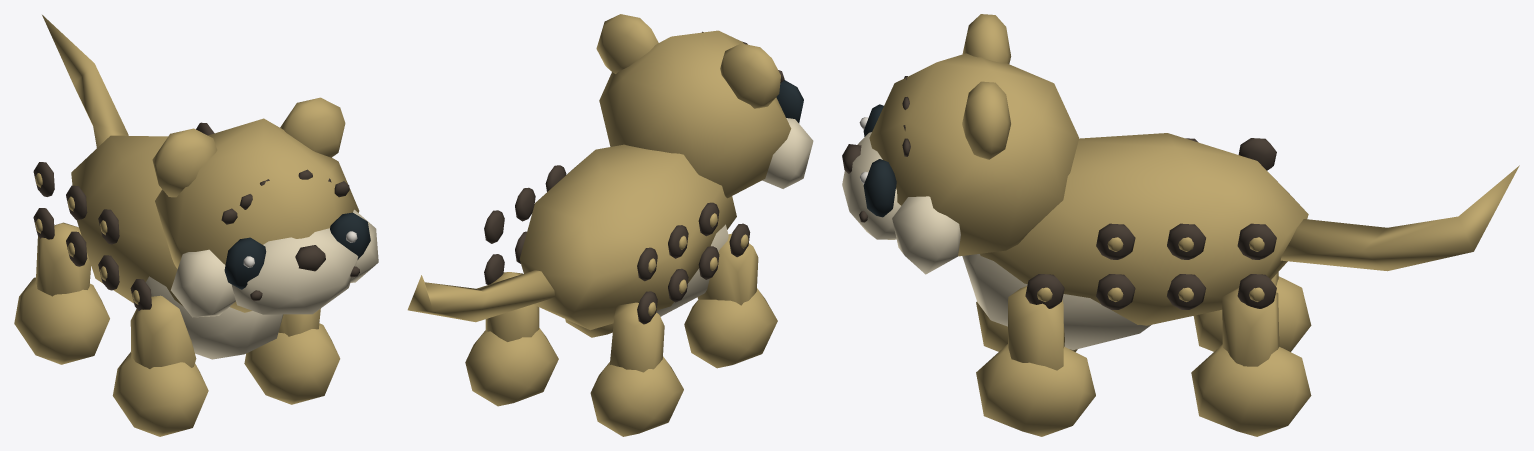
The model's file is org_amurleopard.glb.
3 views of the same model, side by side, from view 1: azimuth 30°, elevation 25°; view 2: azimuth 150°, elevation 25°; view 3: azimuth 270°, elevation 25° (orthographic). The views are drawn at different scales.
Parts seen in each view (by area): view 1: Head, Body, Leg_FR, Leg_BR, Leg_FL, Tail, Eye_R, Eye_L; view 2: Body, Head, Leg_BR, Leg_FR, Leg_BL, Tail, Eye_R; view 3: Body, Head, Leg_FL, Leg_BL, Tail, Leg_BR, Eye_L, Leg_FR.
Boxes of the visible parts, x1=… form: Head: x1=152, y1=97, x2=378, y2=317; Body: x1=33, y1=122, x2=283, y2=359; Leg_FR: x1=112, y1=295, x2=208, y2=436; Leg_BR: x1=14, y1=222, x2=109, y2=364; Leg_FL: x1=244, y1=308, x2=340, y2=404; Tail: x1=42, y1=15, x2=128, y2=147; Eye_R: x1=224, y1=237, x2=266, y2=289; Eye_L: x1=330, y1=212, x2=370, y2=259; Body: x1=484, y1=144, x2=750, y2=330; Head: x1=596, y1=14, x2=813, y2=198; Leg_BR: x1=590, y1=302, x2=683, y2=436; Leg_FR: x1=684, y1=233, x2=777, y2=368; Leg_BL: x1=465, y1=272, x2=558, y2=406; Tail: x1=407, y1=270, x2=555, y2=322; Eye_R: x1=776, y1=80, x2=803, y2=123; Body: x1=962, y1=133, x2=1308, y2=350; Head: x1=842, y1=14, x2=1078, y2=274; Leg_FL: x1=976, y1=286, x2=1095, y2=436; Leg_BL: x1=1191, y1=287, x2=1311, y2=436; Tail: x1=1280, y1=165, x2=1519, y2=271; Leg_BR: x1=1193, y1=272, x2=1311, y2=351; Eye_L: x1=859, y1=159, x2=896, y2=217; Leg_FR: x1=976, y1=302, x2=1077, y2=351.
Bounding box in the file's own units: 0.3881 × 0.5586 × 0.9912.
